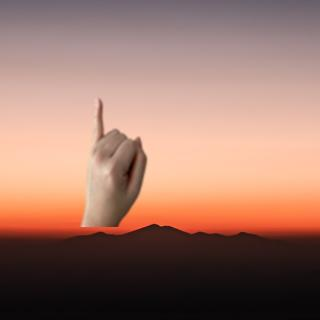Fine: (78, 90, 154, 231)
